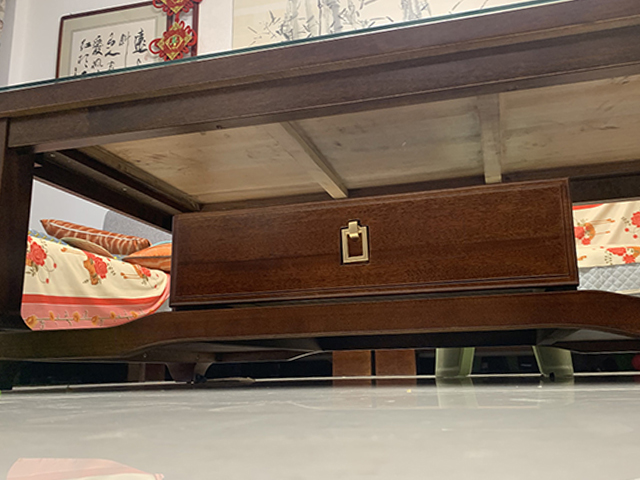table: (1, 1, 640, 391)
